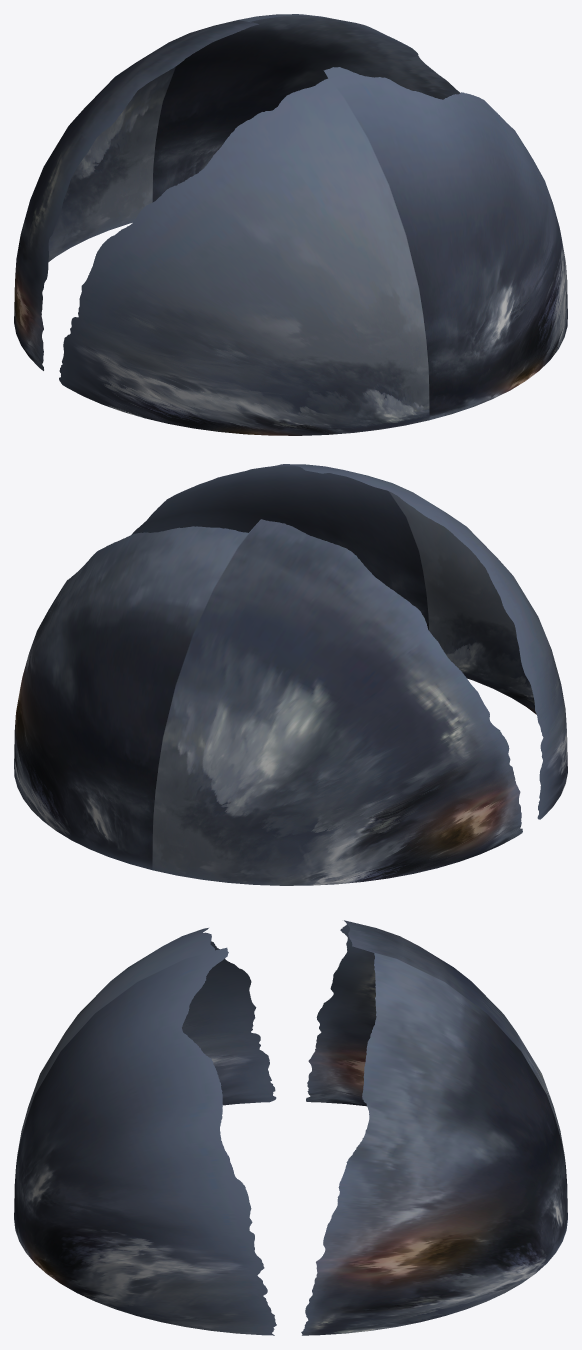
The model's file is SkyCube.fbx.
The picture shows the model from 3 angles, top to bottom: view 1: azimuth 30°, elevation 25°; view 2: azimuth 150°, elevation 25°; view 3: azimuth 270°, elevation 25°; orthographic projection.
Visible parts, largest first — view 1: EX_ASE_Cloud00_SM; view 2: EX_ASE_Cloud00_SM; view 3: EX_ASE_Cloud00_SM.
Part boxes in pixels (x1,y1,x2,y2): EX_ASE_Cloud00_SM: (14, 14, 567, 435); EX_ASE_Cloud00_SM: (14, 464, 567, 885); EX_ASE_Cloud00_SM: (14, 920, 567, 1335).
Size of the model in its own units: 378459 by 210299 by 378459.
